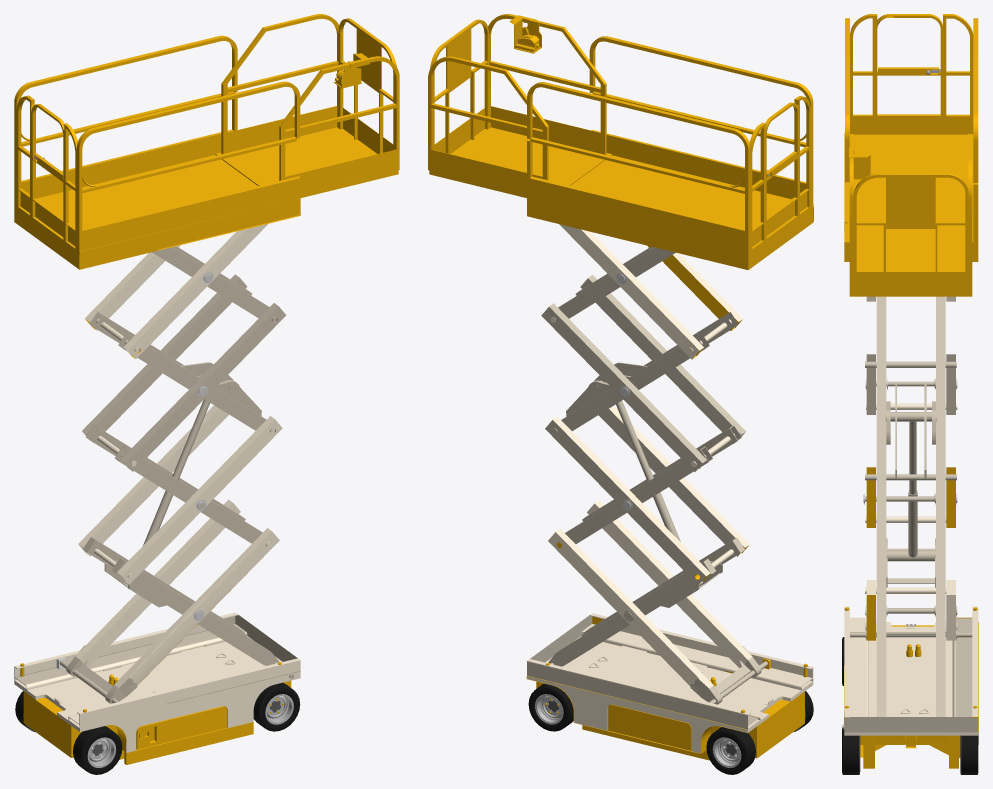
Rendered from electric_scissor_lift_1.glb.
3 renders of one model, left to right at view 1: azimuth 30°, elevation 25°; view 2: azimuth 150°, elevation 25°; view 3: azimuth 270°, elevation 25°, orthographic. The views are drawn at different scales.
Visible parts, largest first — view 1: Object_152, Object_196, Object_184, Object_197, Object_182, Object_158, Object_142, Object_155, Object_139, Object_185, Object_70, Object_118; view 2: Object_152, Object_196, Object_184, Object_197, Object_158, Object_185, Object_139, Object_155, Object_142, Object_182, Object_183, Object_195 (+2 smaller); view 3: Object_152, Object_184, Object_197, Object_158, Object_155, Object_185, Object_182, Object_196, Object_195, ske11_50, Object_118, Object_47 (+2 smaller).
Boxes of the visible parts, x1,y1,x2,y2 form: Object_152: (14, 14, 399, 269); Object_196: (75, 223, 282, 687); Object_184: (14, 612, 300, 752); Object_197: (59, 246, 277, 703); Object_182: (23, 645, 291, 764); Object_158: (83, 399, 294, 679); Object_142: (121, 303, 286, 471); Object_155: (89, 311, 275, 433); Object_139: (82, 274, 247, 442); Object_185: (15, 615, 300, 703); Object_70: (73, 726, 122, 774); Object_118: (253, 682, 300, 731); Object_152: (428, 14, 813, 269); Object_196: (548, 224, 752, 688); Object_184: (527, 613, 813, 753); Object_197: (545, 246, 768, 704); Object_158: (548, 401, 744, 666); Object_185: (527, 615, 760, 729); Object_139: (541, 303, 706, 471); Object_155: (552, 312, 738, 434); Object_142: (580, 275, 745, 443); Object_182: (527, 645, 804, 760); Object_183: (526, 616, 790, 750); Object_195: (556, 134, 806, 669); Object_152: (844, 14, 978, 296); Object_184: (844, 606, 978, 744); Object_197: (850, 296, 972, 639); Object_158: (842, 421, 945, 729); Object_155: (865, 379, 956, 492); Object_185: (844, 618, 978, 732); Object_182: (844, 622, 978, 768); Object_196: (865, 296, 957, 640); Object_195: (866, 467, 955, 640); ske11_50: (863, 378, 957, 616); Object_118: (842, 727, 859, 774); Object_47: (961, 735, 978, 774).
Size of the model in its own units: 5.81 by 11.11 by 2.08.
